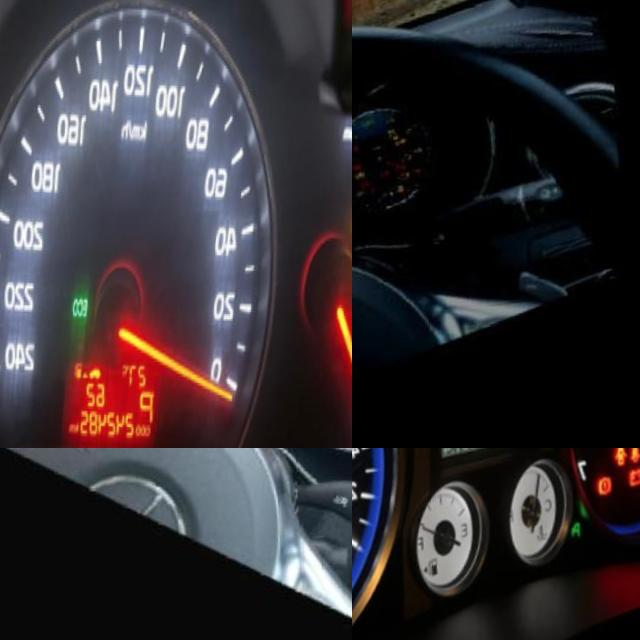Doors: (618, 448, 637, 462)
Low fuel level: (406, 180, 416, 192)
